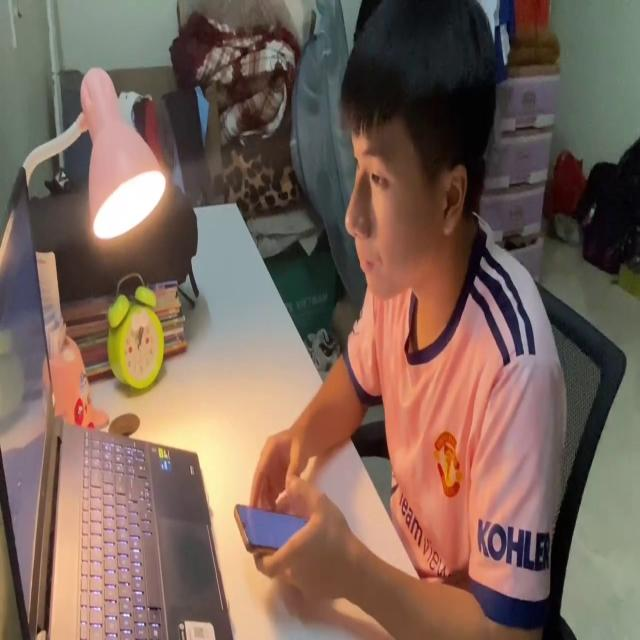laptop: (0, 157, 238, 639)
phone: (233, 496, 318, 559)
student: (248, 0, 566, 640)
